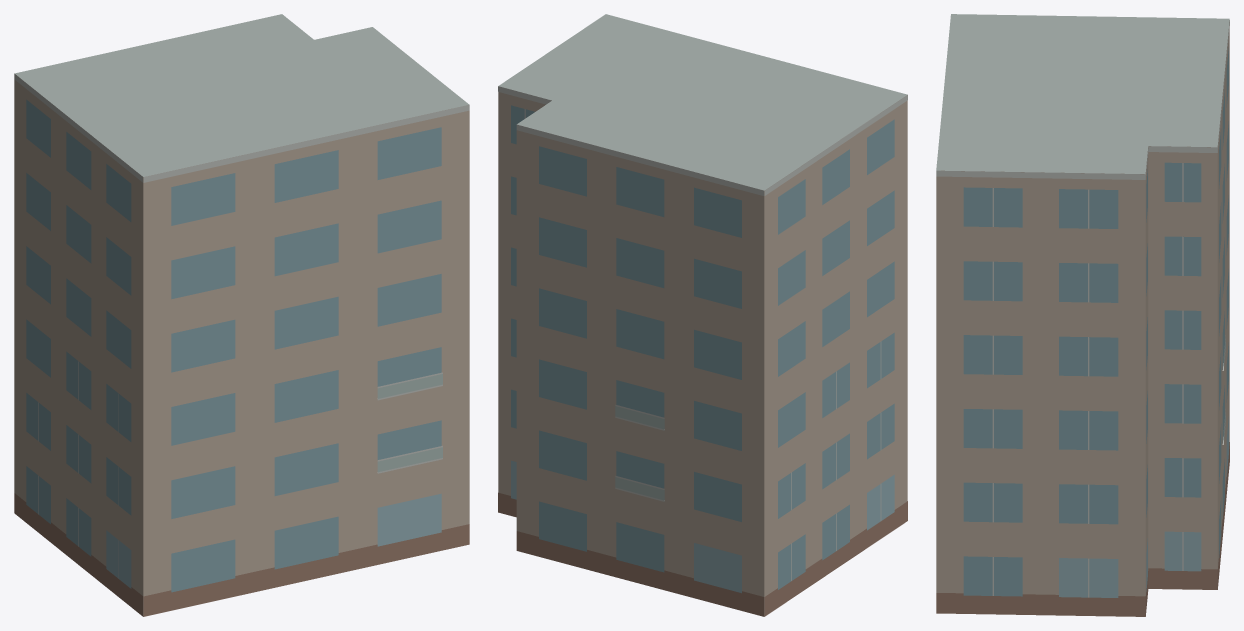
The model's file is survey-upis-32655695.glb.
3 views of the same model, side by side, from view 1: azimuth 30°, elevation 25°; view 2: azimuth 150°, elevation 25°; view 3: azimuth 270°, elevation 25° (orthographic). The views are drawn at different scales.
Visible parts, largest first — view 1: survey-upis-32655695.tmp; view 2: survey-upis-32655695.tmp; view 3: survey-upis-32655695.tmp.
Part boxes in pixels (x1,y1,x2,y2): survey-upis-32655695.tmp: (14, 14, 469, 616); survey-upis-32655695.tmp: (498, 14, 907, 616); survey-upis-32655695.tmp: (936, 14, 1229, 616).
Bounding box in the file's own units: 14.2 × 18.3 × 11.01.
